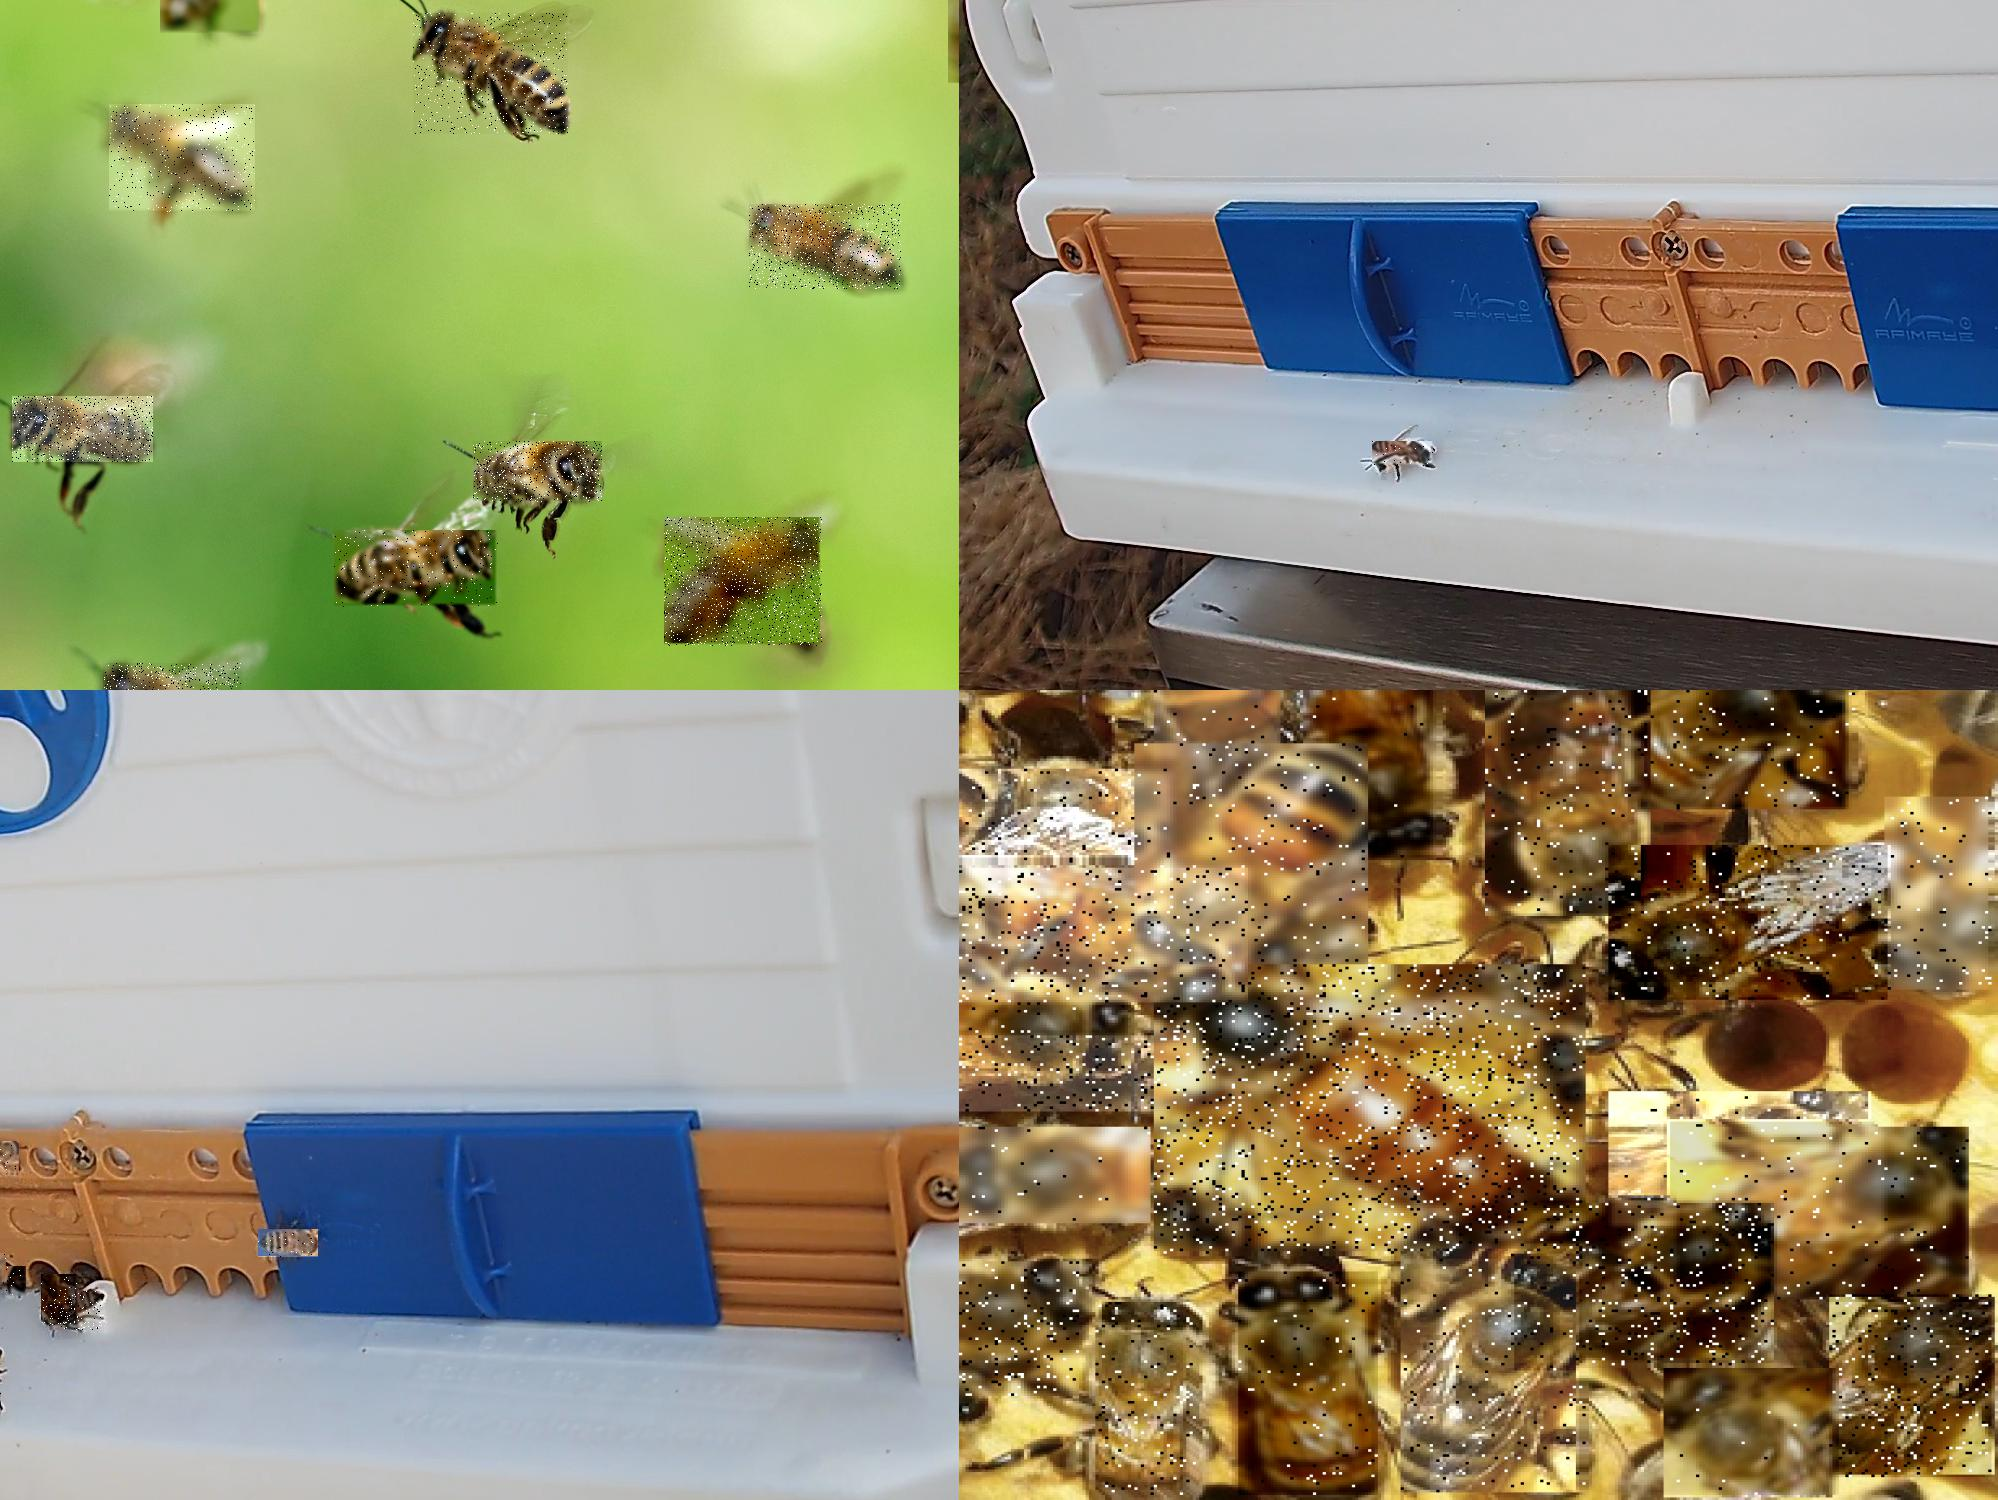bee: (1135, 744, 1371, 967), (1677, 1128, 1973, 1303), (1402, 1251, 1591, 1495), (1612, 846, 1900, 1002), (1525, 1205, 1779, 1369), (960, 868, 1253, 1005), (1486, 690, 1654, 919), (1610, 1093, 1885, 1232), (1239, 1272, 1380, 1497), (1829, 1294, 1995, 1480), (1631, 690, 1861, 811), (1306, 690, 1447, 863), (1664, 1368, 1842, 1497), (1888, 797, 1996, 993), (960, 770, 1174, 867), (665, 518, 824, 648), (1098, 1305, 1202, 1500), (960, 1127, 1153, 1226), (960, 1035, 1201, 1114), (413, 14, 569, 136), (960, 1262, 1083, 1399), (109, 104, 257, 214), (960, 982, 1131, 1071), (750, 205, 903, 291), (336, 531, 499, 608), (13, 395, 154, 463), (1155, 690, 1284, 759), (473, 441, 603, 504), (102, 663, 243, 689), (50, 1290, 104, 1331), (258, 1229, 320, 1261), (43, 1275, 80, 1325), (1372, 441, 1435, 468), (2, 1267, 27, 1298), (0, 1141, 20, 1175)
pollenbee: (161, 0, 263, 36), (0, 1253, 8, 1287)
queen: (1155, 966, 1590, 1259)
